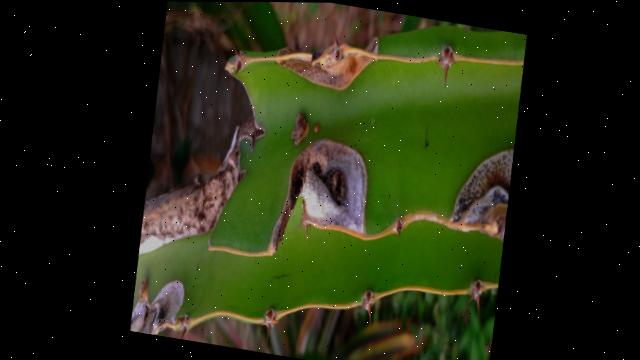stemcanker: (285, 104, 313, 153)
